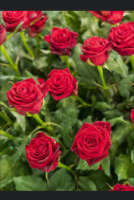RedRose: (73, 118, 118, 169), (20, 128, 66, 177), (3, 75, 50, 116), (44, 65, 83, 102), (44, 23, 80, 57), (81, 36, 117, 68)
